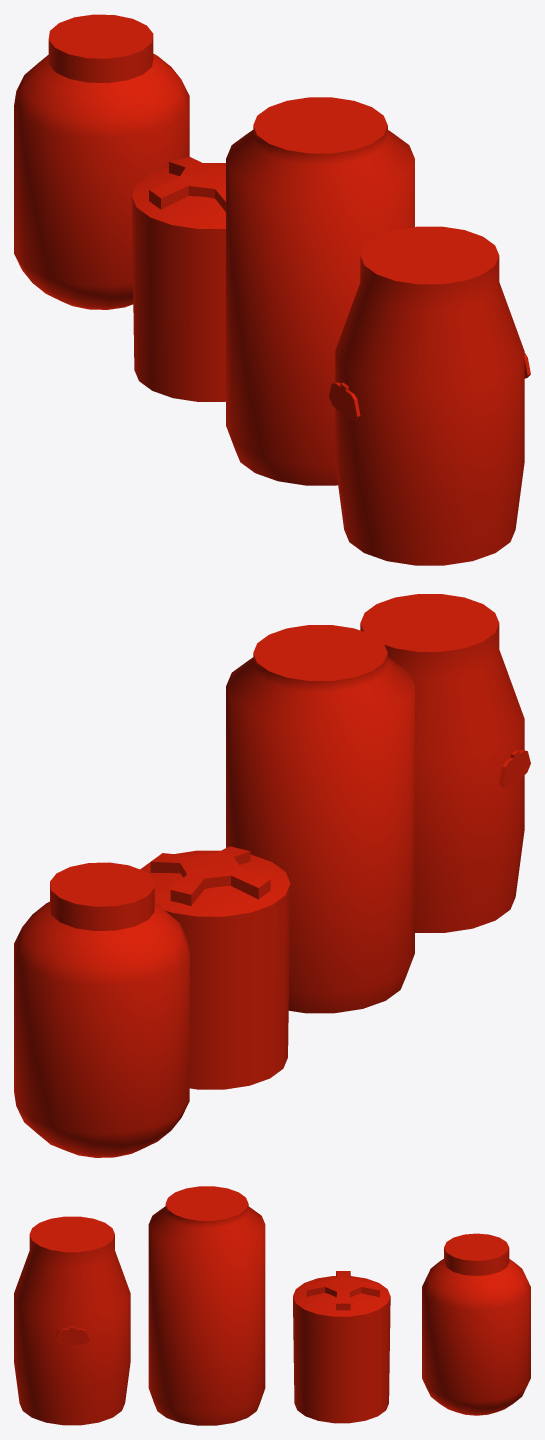
Rendered from Barrels_1_Collider.FBX.
3 renders of one model, top to bottom at view 1: azimuth 30°, elevation 25°; view 2: azimuth 150°, elevation 25°; view 3: azimuth 270°, elevation 25°, orthographic. The views are drawn at different scales.
Parts seen in each view (by area): view 1: Barrel_04_Collider, Barrel_03_Collider, Barrel_01_Collider, Barrel_02_Collider, Handle_04_2_Collider; view 2: Barrel_03_Collider, Barrel_01_Collider, Barrel_04_Collider, Barrel_02_Collider, Handle_04_2_Collider; view 3: Barrel_03_Collider, Barrel_04_Collider, Barrel_01_Collider, Barrel_02_Collider, Handle_04_1_Collider.
Boxes of the visible parts, x1,y1,x2,y2 form: Barrel_04_Collider: (335, 226, 524, 565); Barrel_03_Collider: (226, 97, 414, 485); Barrel_01_Collider: (14, 14, 189, 309); Barrel_02_Collider: (131, 156, 225, 401); Handle_04_2_Collider: (329, 382, 360, 420); Barrel_03_Collider: (226, 625, 414, 1013); Barrel_01_Collider: (14, 862, 189, 1157); Barrel_04_Collider: (360, 594, 524, 932); Barrel_02_Collider: (140, 846, 290, 1089); Handle_04_2_Collider: (499, 750, 530, 787); Barrel_03_Collider: (148, 1186, 265, 1425); Barrel_04_Collider: (14, 1216, 130, 1425); Barrel_01_Collider: (422, 1233, 530, 1415); Barrel_02_Collider: (293, 1271, 390, 1423); Handle_04_1_Collider: (55, 1326, 89, 1344).
Size of the model in its own units: 55.06 by 98.25 by 230.
